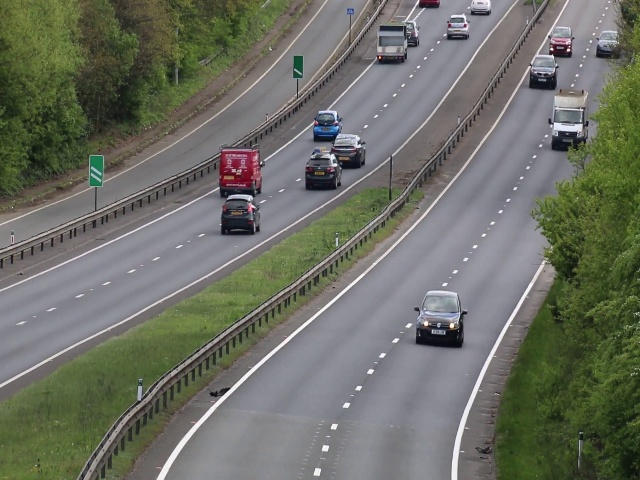car: (419, 289, 463, 348), (218, 148, 261, 196), (552, 90, 586, 150), (305, 151, 342, 192), (222, 195, 260, 233), (377, 20, 407, 64), (529, 52, 559, 91), (332, 134, 365, 164), (313, 108, 339, 139), (548, 24, 572, 57), (597, 25, 619, 59), (447, 13, 469, 42), (405, 18, 419, 45)
